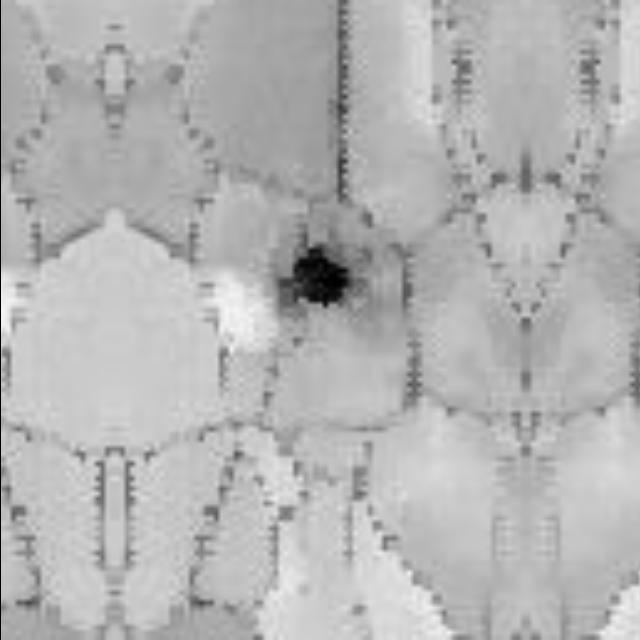good_void: (268, 239, 364, 317)
